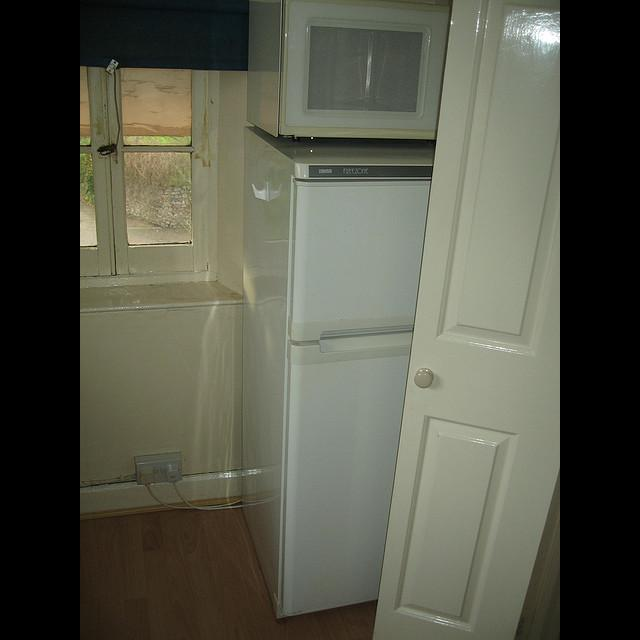Microwave: (246, 1, 451, 142)
Refrigerator: (237, 122, 434, 623)
